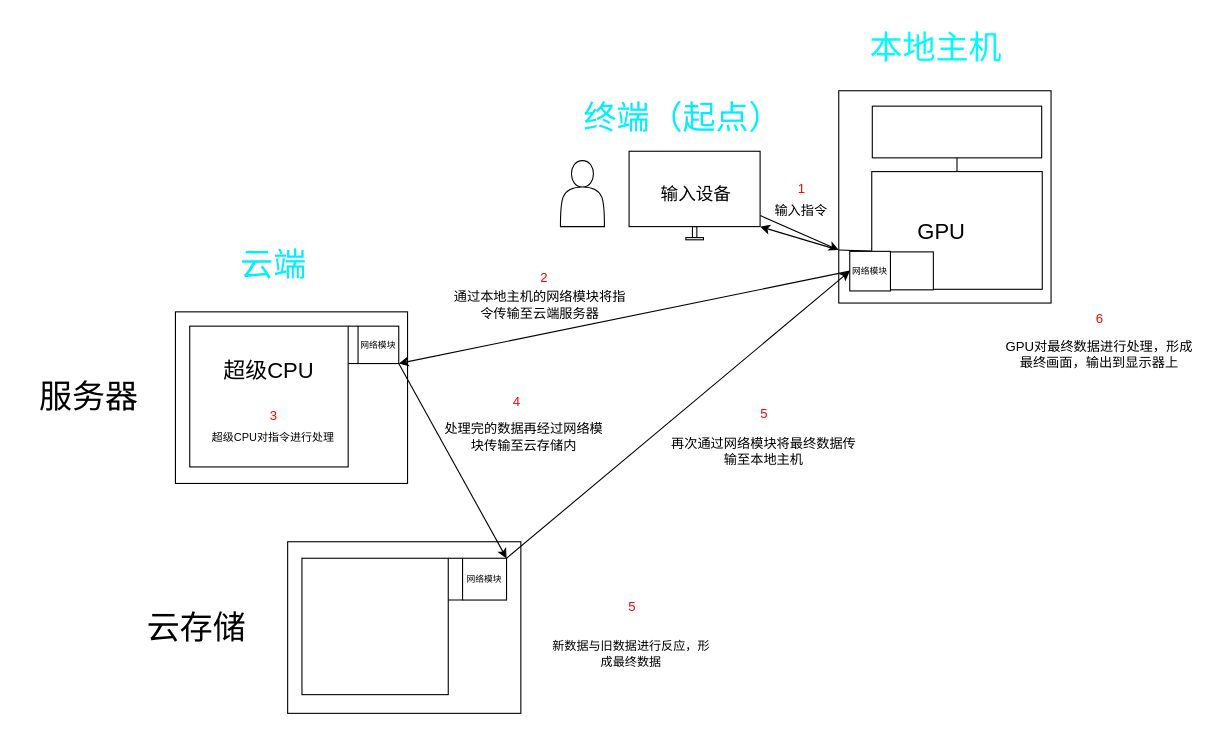
Image size: 1212x733. Some labels were removed from this diagram. Each missing label, with the centre of its shape:
"CPU" goes at pixel 911 270.
"内存条" goes at pixel 956 131.
"硬盘" goes at pixel 374 626.
